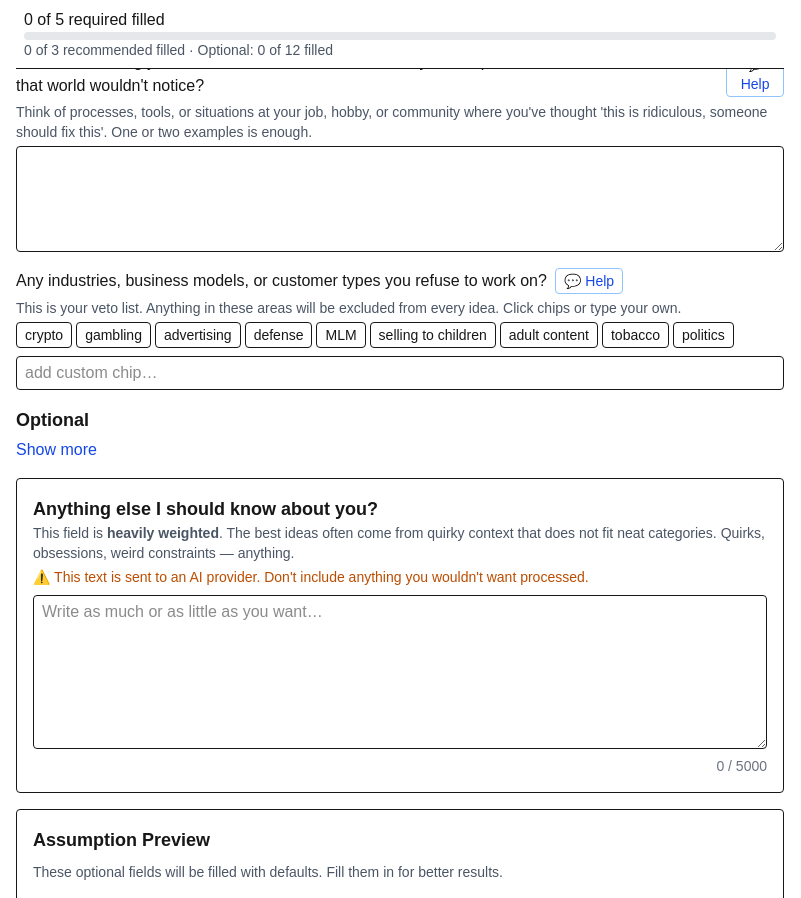
Test: ProfileForm › clicking "Show more" reveals optional questions inside the optional section
The width and height of the screenshot is (801, 898).
(page scrolled)
Click the button "Show more". click: click(56, 450)
box: [16,438,97,462]
(page scrolled)
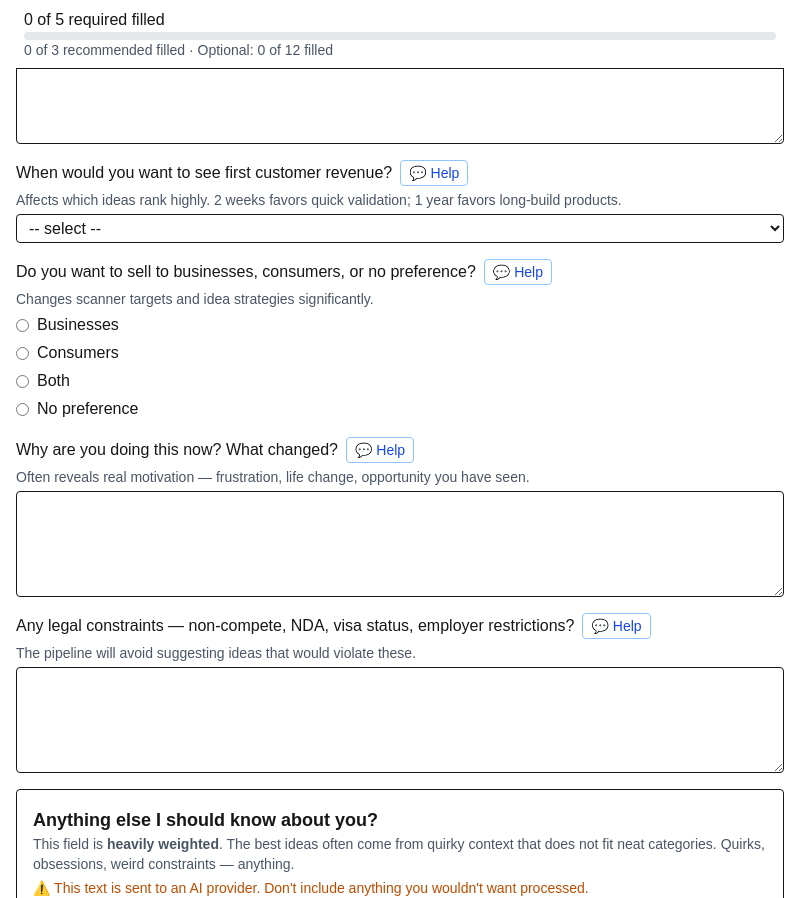
expect the text "Why are you doing this now? What changed?" is shown: met, box [16,438,338,462]
